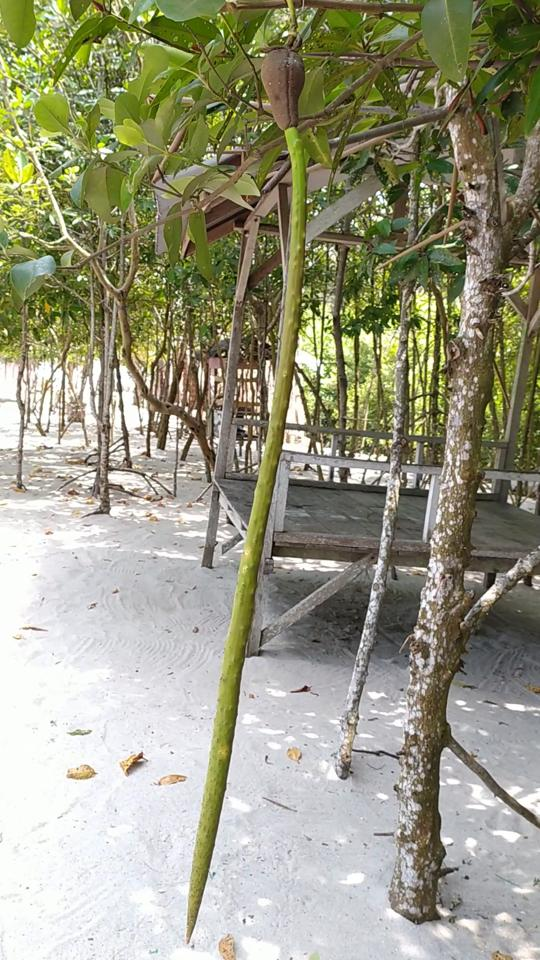mentah: (168, 25, 338, 949)
